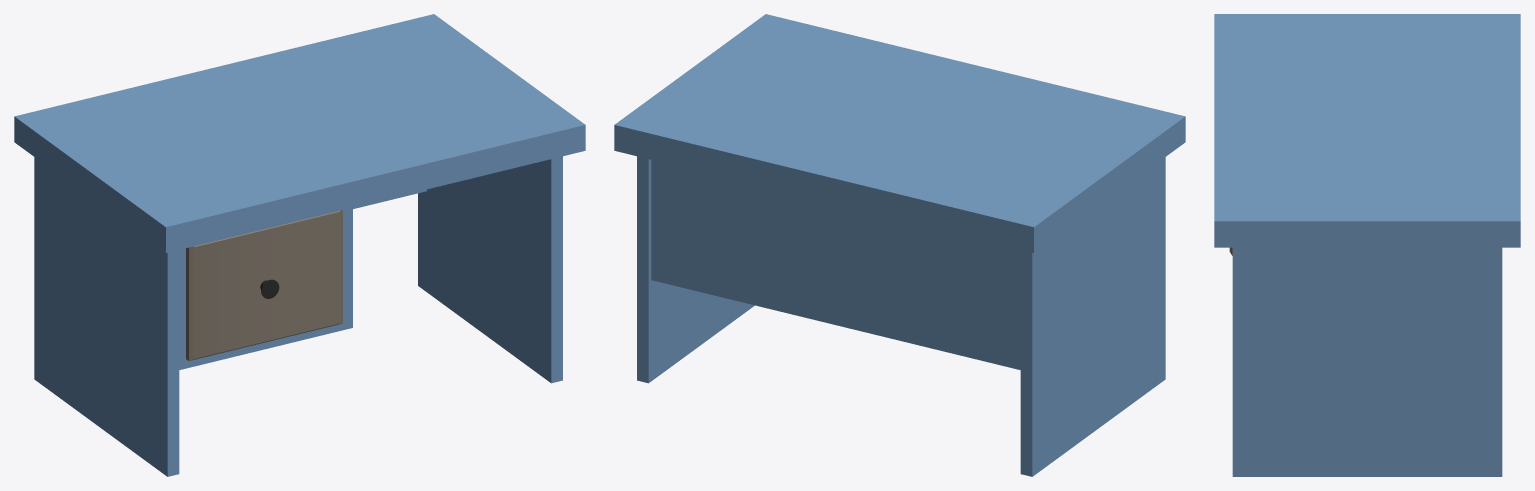
The model's file is drawer.glb.
The picture shows the model from 3 angles, left to right: view 1: azimuth 30°, elevation 25°; view 2: azimuth 150°, elevation 25°; view 3: azimuth 270°, elevation 25°; orthographic projection.
Parts seen in each view (by area): view 1: ItemDrawer.001; view 2: ItemDrawer.001; view 3: ItemDrawer.001.
Part boxes in pixels (x1=…): ItemDrawer.001: x1=14, y1=14, x2=585, y2=476; ItemDrawer.001: x1=614, y1=14, x2=1185, y2=476; ItemDrawer.001: x1=1214, y1=14, x2=1520, y2=476.
Size of the model in its own units: 3.39 by 2 by 2.12.
